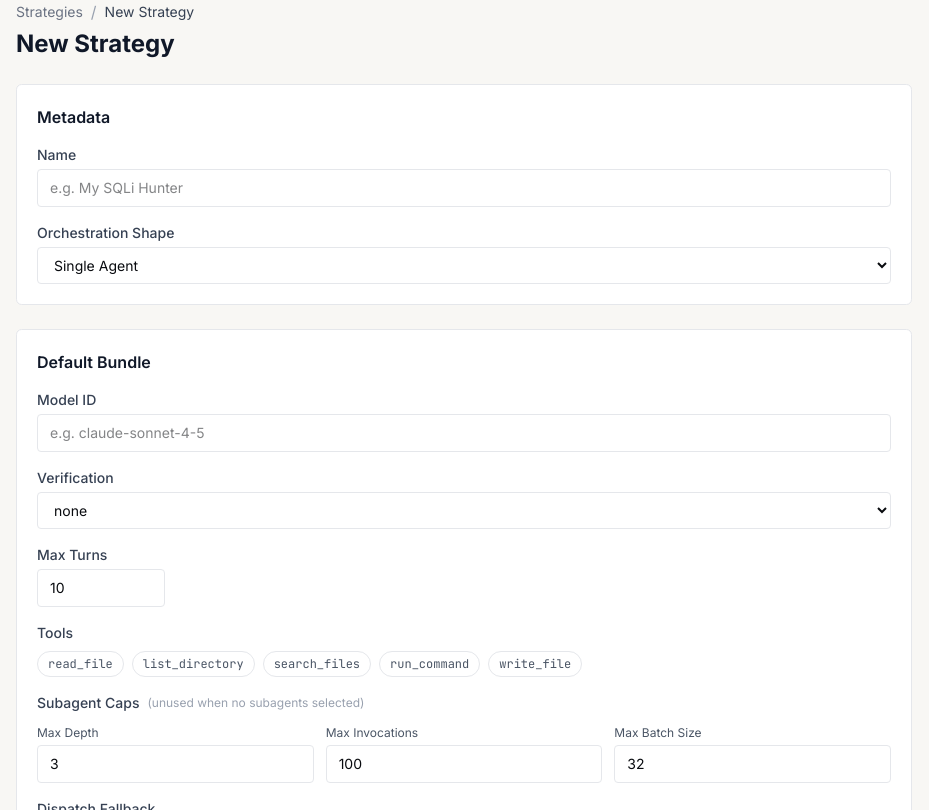
Scenario: StrategyEditor — new strategy › glob preview appears for rule keys
The width and height of the screenshot is (929, 810).
Select "Per File" in the dropdown with test id "shape-select" at (464, 266), box [37, 247, 891, 284]
(page scrolled)
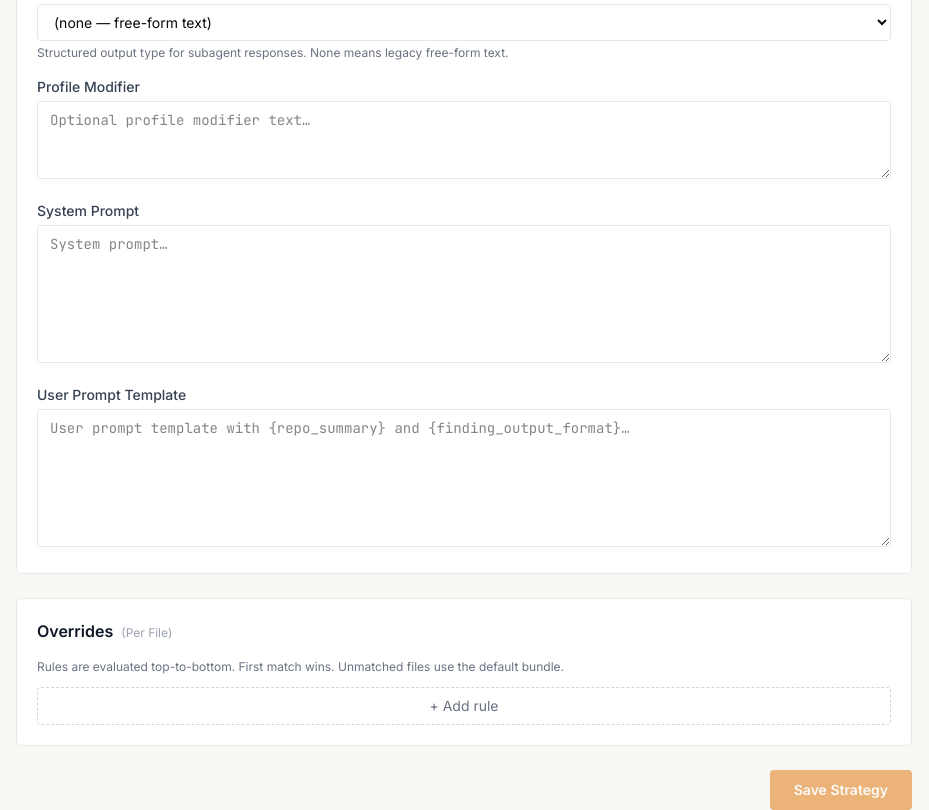
Now the button with test id "add-rule-btn" is shown
Click the button with test id "add-rule-btn".
click(464, 706)  # box [37, 687, 891, 725]
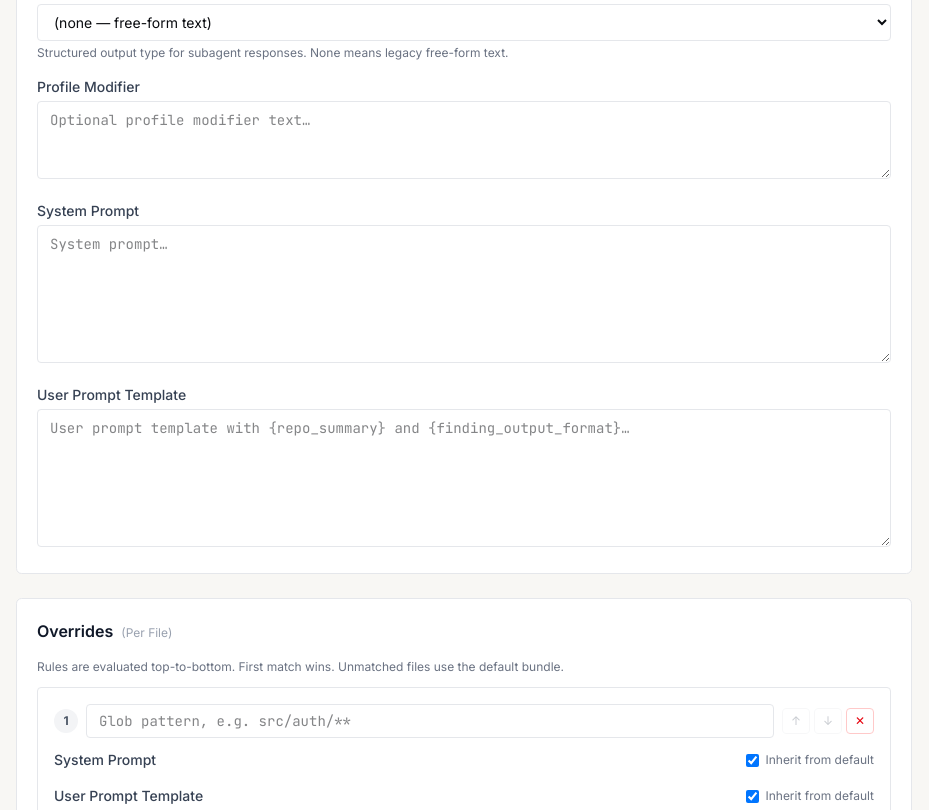
Type "*.py" into the field with test id "rule-key-input".
click(430, 721); type("*.py")  # box [86, 704, 774, 738]
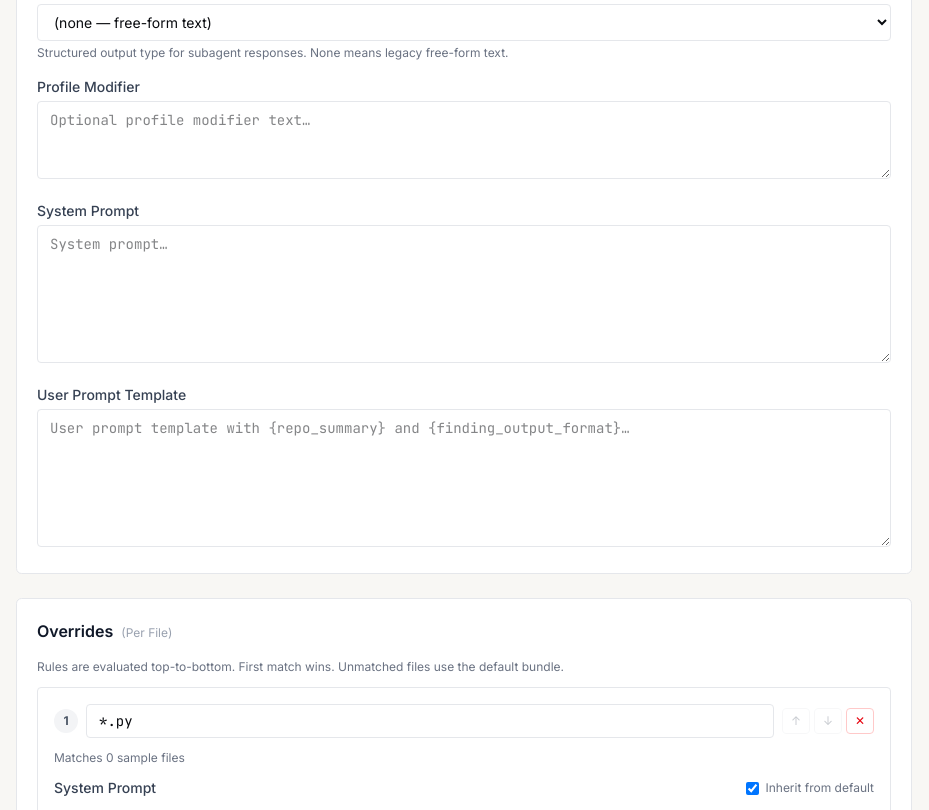
Now the text "Matches 0 sample files" is shown, box [54, 750, 185, 765]
